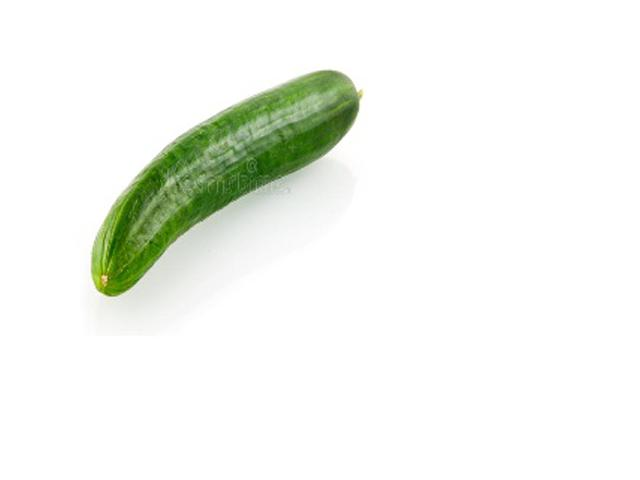cucumber: (91, 70, 359, 297)
